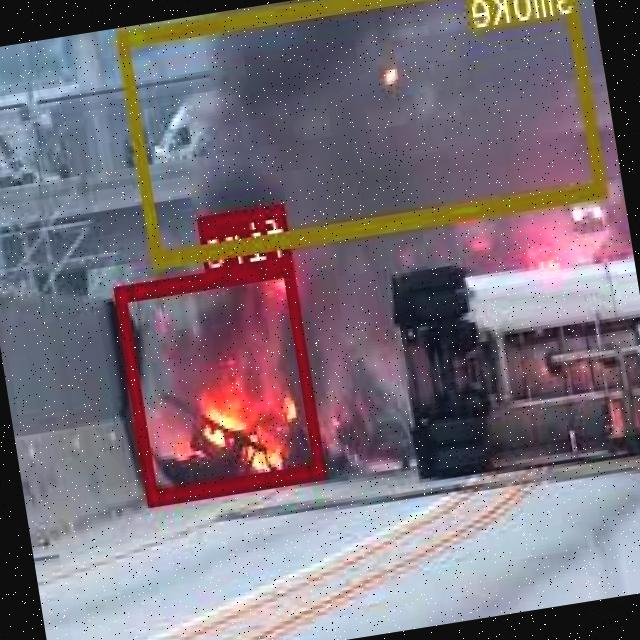fire: (116, 257, 329, 503)
smoke: (118, 0, 608, 265)
